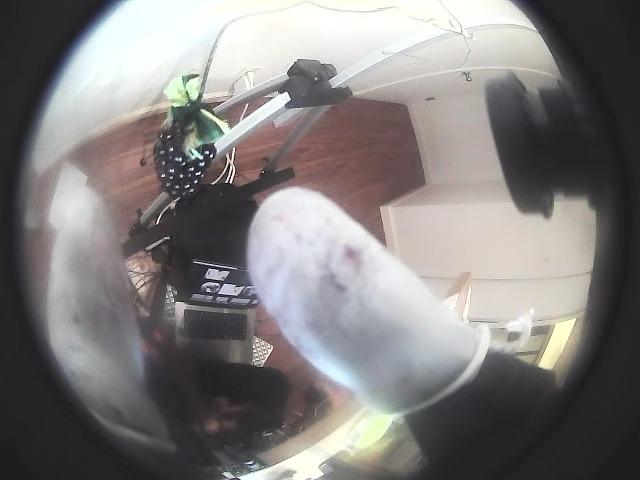berry: (153, 74, 230, 200)
gripper: (248, 187, 490, 412), (44, 166, 167, 447)
lense: (438, 0, 639, 479), (0, 0, 154, 479)
